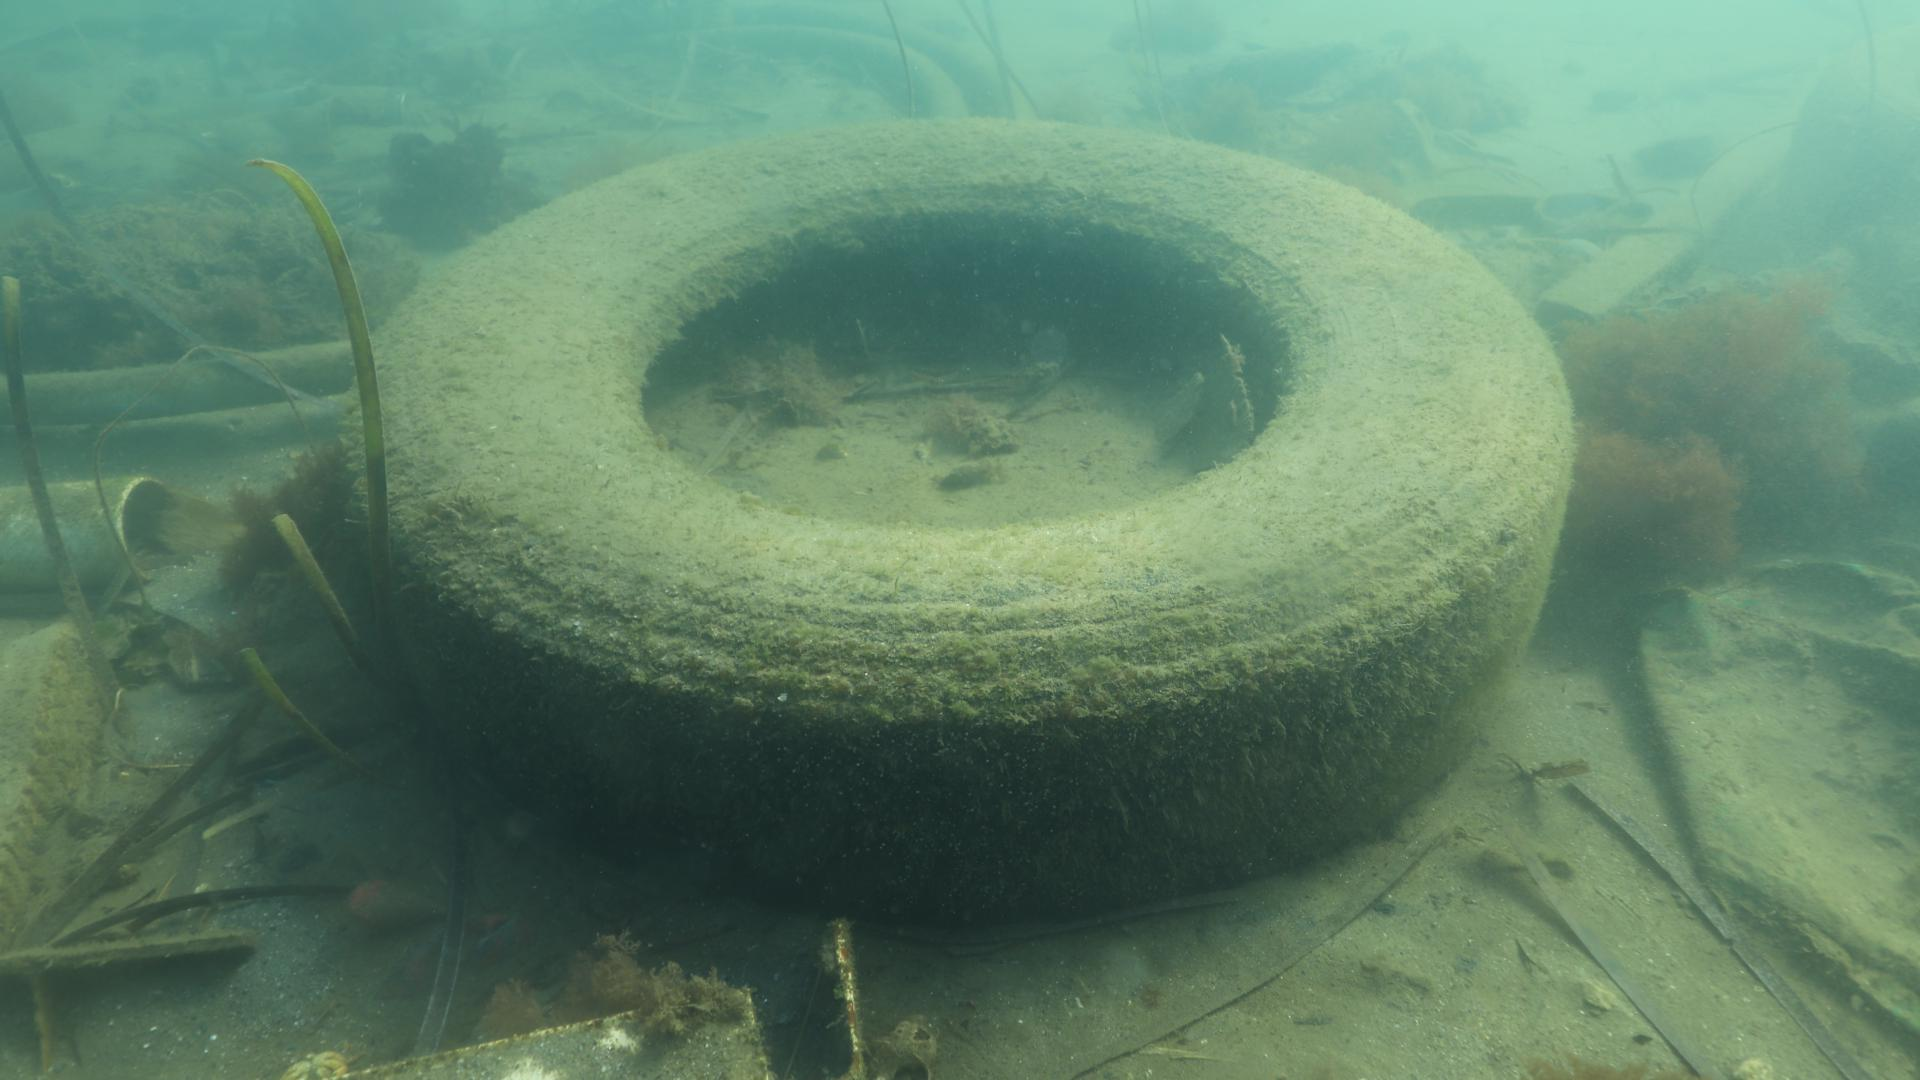tire: (343, 115, 1578, 934)
